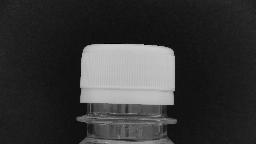Loose Cap: (70, 84, 184, 128)
